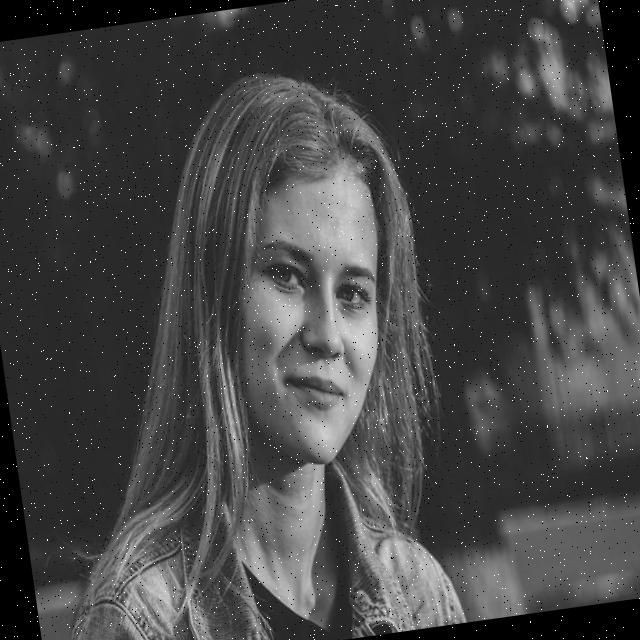Happiness: (204, 142, 418, 482)
